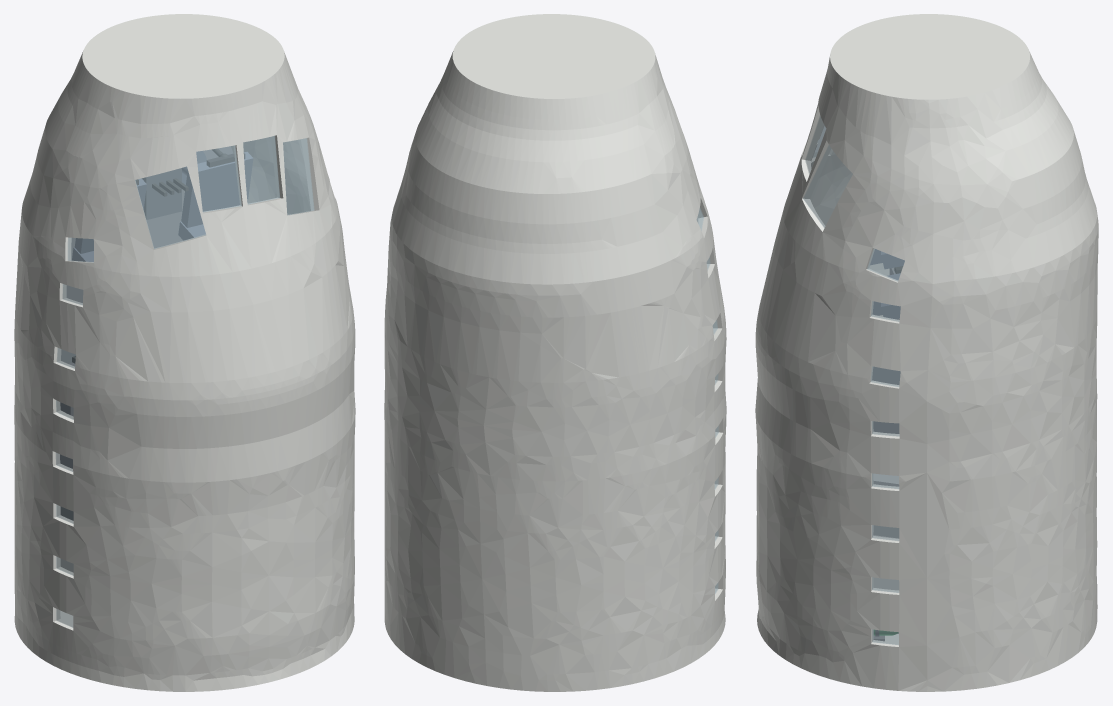
File: cockpit04_inline_droop_cockpit_interior.glb
3 views of the same model, side by side, from view 1: azimuth 30°, elevation 25°; view 2: azimuth 150°, elevation 25°; view 3: azimuth 270°, elevation 25° (orthographic).
Visible parts, largest first — view 1: pressure_vessel, window_glass_inner, seat_2, cabin_floor, centre_pedestal, seat_1; view 2: pressure_vessel; view 3: pressure_vessel, window_glass_inner, engineer_panel, eq06_1_enclosure.
Boxes of the visible parts, left/top/right/bottom form: pressure_vessel: left=14, top=14, right=355, bottom=691; window_glass_inner: left=55, top=136, right=314, bottom=627; seat_2: left=178, top=151, right=253, bottom=240; cabin_floor: left=61, top=146, right=232, bottom=363; centre_pedestal: left=142, top=168, right=181, bottom=219; seat_1: left=72, top=178, right=146, bottom=261; pressure_vessel: left=384, top=14, right=726, bottom=691; pressure_vessel: left=755, top=14, right=1098, bottom=691; window_glass_inner: left=803, top=115, right=904, bottom=645; engineer_panel: left=872, top=366, right=900, bottom=433; eq06_1_enclosure: left=873, top=473, right=899, bottom=538.
Bounding box in the file's own units: 2.5 × 4.55 × 2.51.
